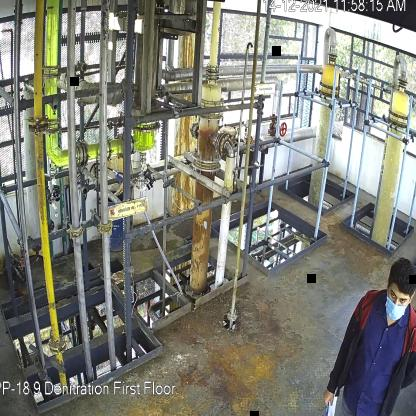no_goggles: (386, 288, 410, 305)
